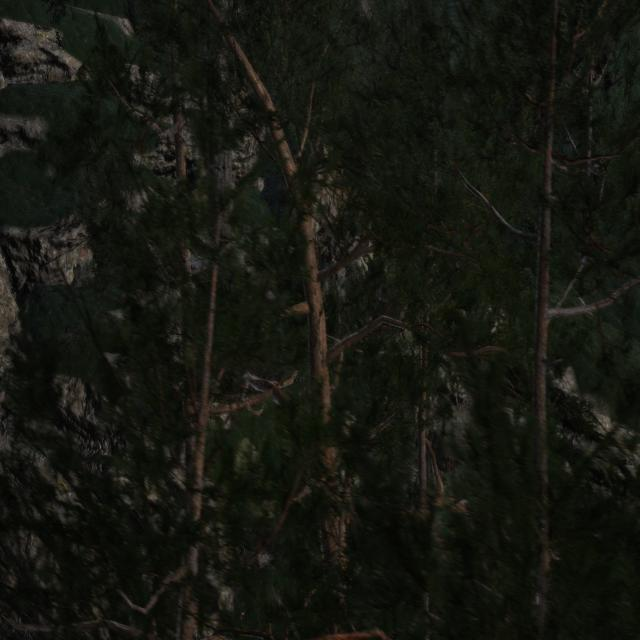Human: (331, 268, 348, 362)
